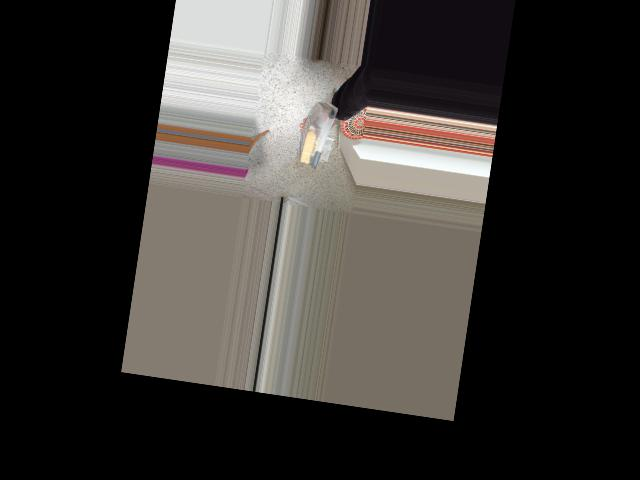cheese: (296, 96, 341, 170)
